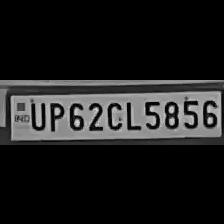2: (84, 97, 104, 130)
5: (139, 97, 161, 130), (180, 96, 200, 128)
6: (64, 99, 84, 131), (199, 96, 219, 128)
8: (160, 97, 180, 130)
C: (103, 97, 123, 130)
L: (124, 97, 140, 130)
P: (44, 100, 64, 132)
U: (26, 98, 46, 130)
